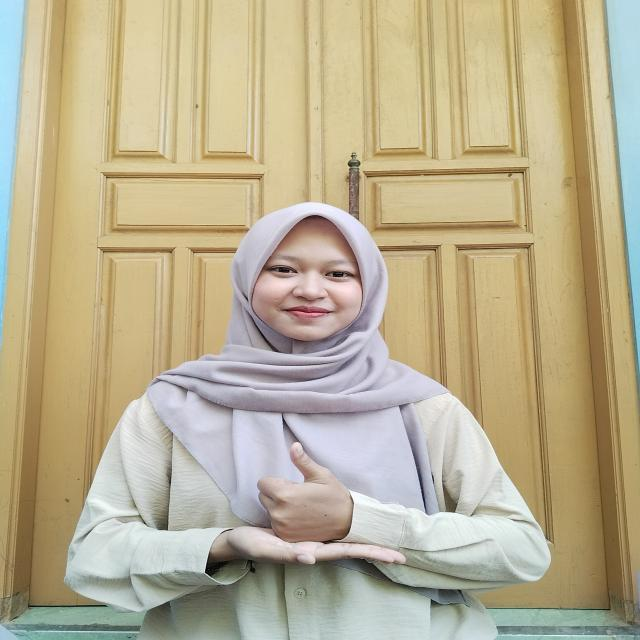cantik: (198, 444, 417, 573)
